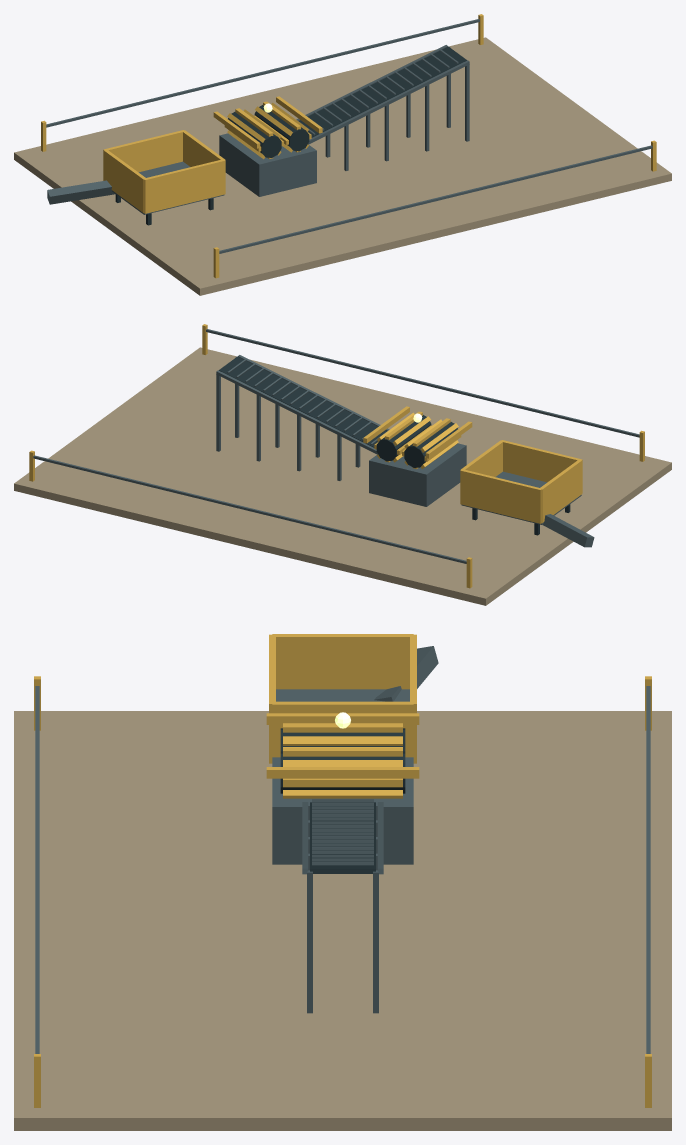
File: crusher-optimized.glb
3 renders of one model, top to bottom at view 1: azimuth 30°, elevation 25°; view 2: azimuth 150°, elevation 25°; view 3: azimuth 270°, elevation 25°, orthographic. The views are drawn at different scales.
Parts seen in each view (by area): view 1: crusher_material_4, crusher_material_1, crusher_material_3, crusher_material_2; view 2: crusher_material_4, crusher_material_1, crusher_material_3, crusher_material_2; view 3: crusher_material_4, crusher_material_3, crusher_material_1, crusher_material_2.
Part boxes in pixels (x1,y1,x2,y2): crusher_material_4: (14, 37, 671, 295); crusher_material_1: (46, 19, 652, 253); crusher_material_3: (41, 14, 656, 278); crusher_material_2: (115, 46, 466, 225); crusher_material_4: (14, 347, 671, 605); crusher_material_1: (33, 329, 639, 563); crusher_material_3: (29, 324, 644, 588); crusher_material_2: (219, 356, 570, 535); crusher_material_4: (14, 711, 671, 1130); crusher_material_3: (34, 634, 651, 1107); crusher_material_1: (35, 646, 650, 1053); crusher_material_2: (280, 728, 405, 873).
Size of the model in its own units: 44.16 by 7.4 by 28.
